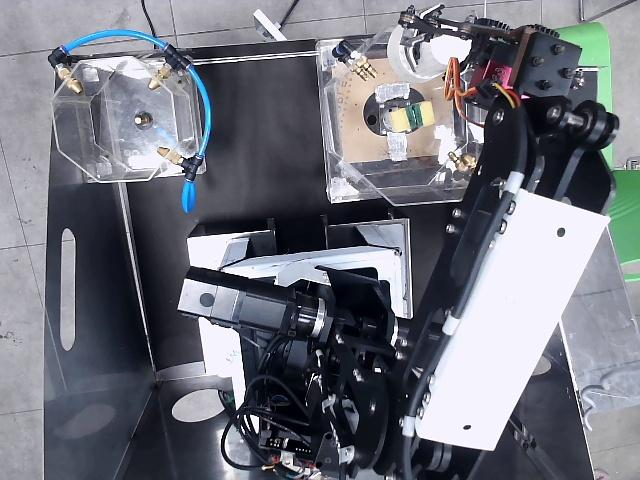cup: (387, 25, 469, 82)
